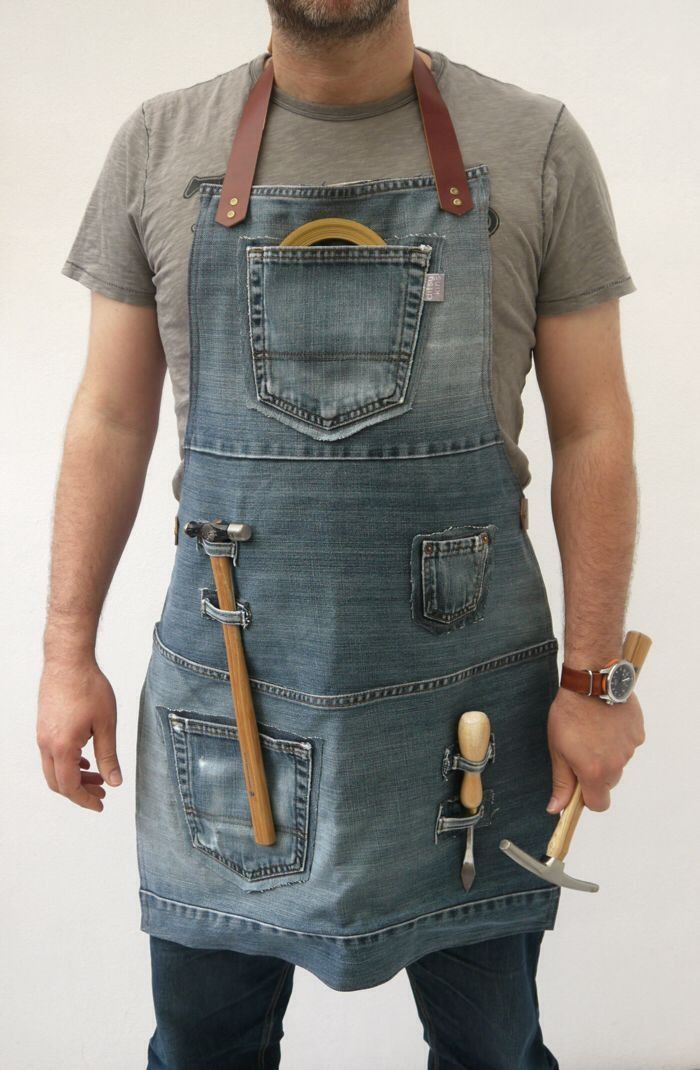cuero: (214, 51, 474, 228)
